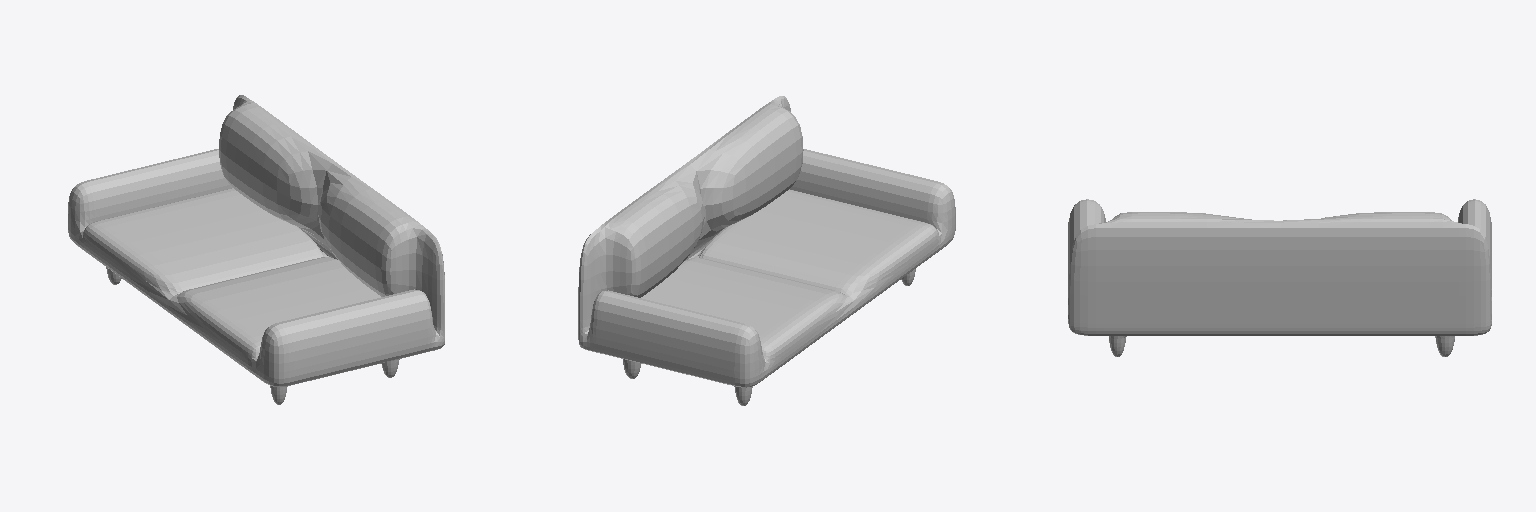
The model's file is canapé.obj.
3 views of the same model, side by side, from view 1: azimuth 30°, elevation 25°; view 2: azimuth 150°, elevation 25°; view 3: azimuth 270°, elevation 25° (orthographic).
Visible parts, largest first — view 1: Cube; view 2: Cube; view 3: Cube.
Part boxes in pixels (x1,y1,x2,y2): Cube: (68, 95, 444, 404); Cube: (578, 96, 955, 405); Cube: (1068, 199, 1491, 356).
Bounding box in the file's own units: 2.78 × 2.26 × 5.77.